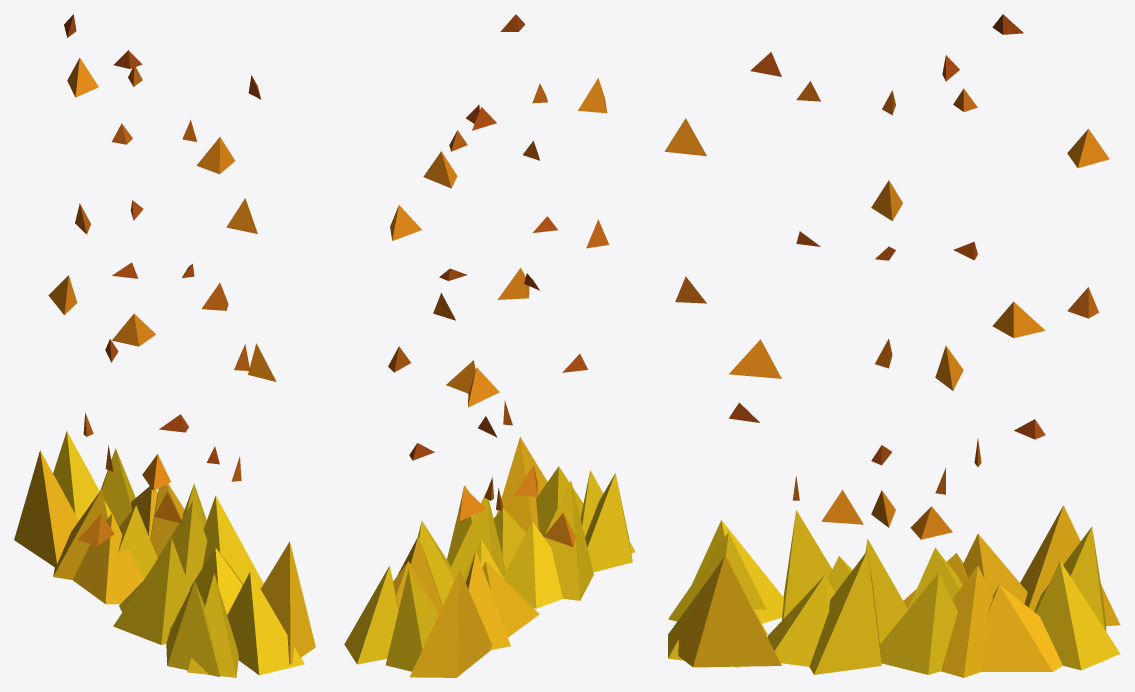
Rendered from obj_fire_wall_1_2.obj.
3 views of the same model, side by side, from view 1: azimuth 30°, elevation 25°; view 2: azimuth 150°, elevation 25°; view 3: azimuth 270°, elevation 25° (orthographic). The views are drawn at different scales.
Bounding box in the file's own units: 0.4531 × 1.46 × 1.
